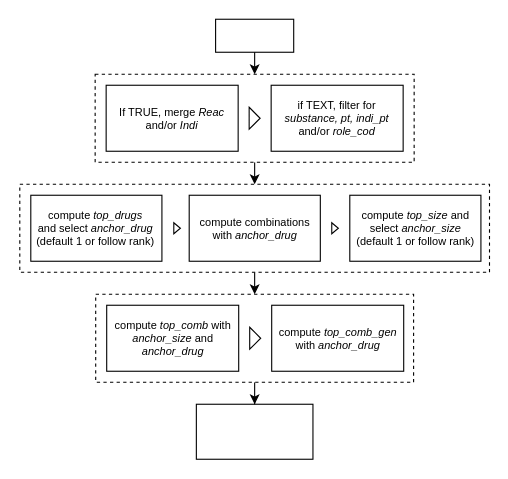
The diagram is 508 pixels wide and 479 high, and some of its shapes have lost their labels. The shapes that lost their labels are listed below. From the top down, each one's centre as x and y in pixels, then its label:
the point at 254,35: Drug
the point at 254,431: compute drugs_df
